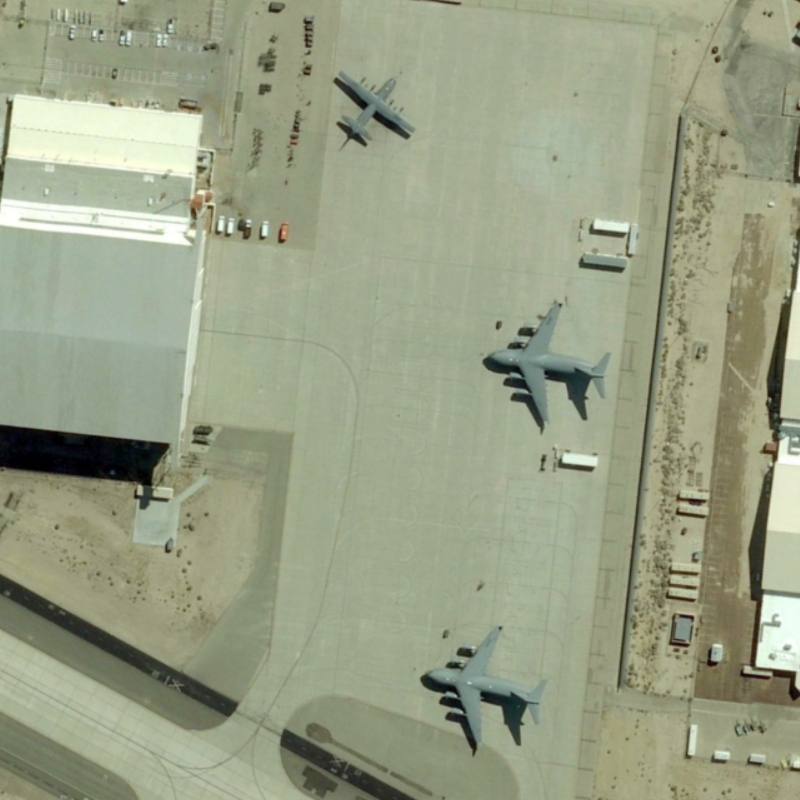A2: (328, 61, 425, 155)
A3: (416, 617, 557, 759), (477, 293, 615, 433)
